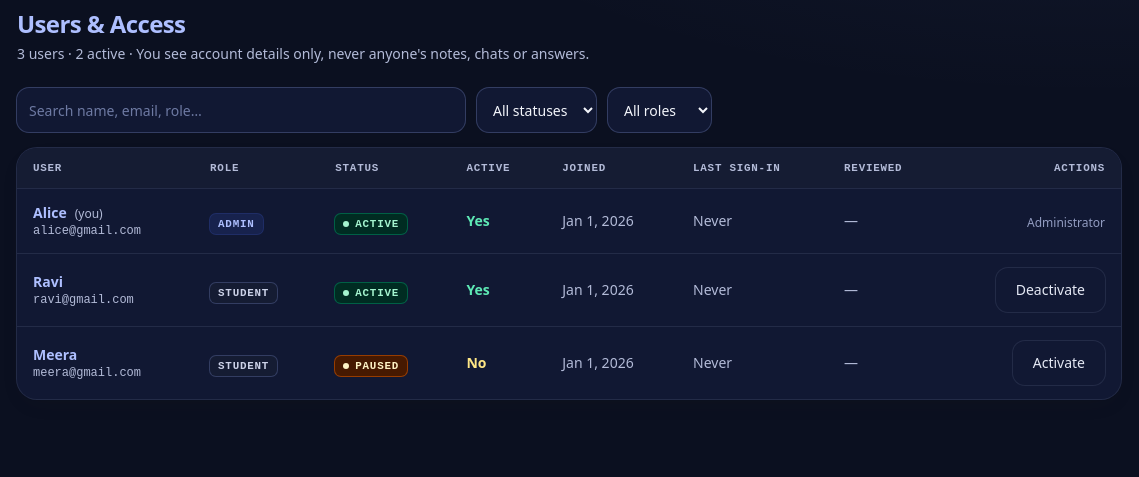
Scenario: Users & Access screen › cancel leaves access untouched; activating a paused account is one click
Check: the table named "Accounts" is shown, box x1=17 y1=148 x2=1121 y2=399
Click the button with aria-label "Deactivate Ravi": (1050, 290) x1=996 y1=268 x2=1105 y2=312
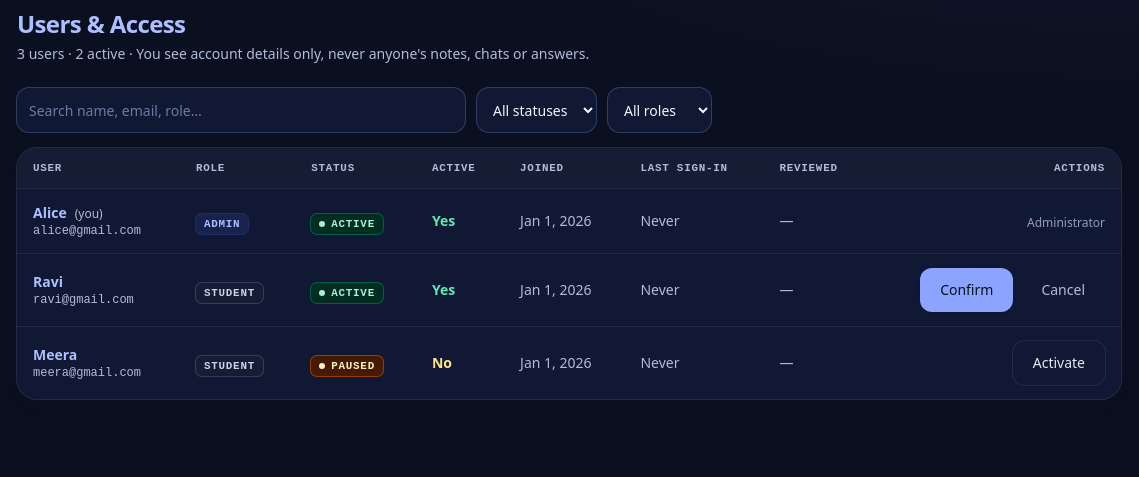
Click the button "Cancel": (1063, 290) x1=1021 y1=268 x2=1105 y2=312
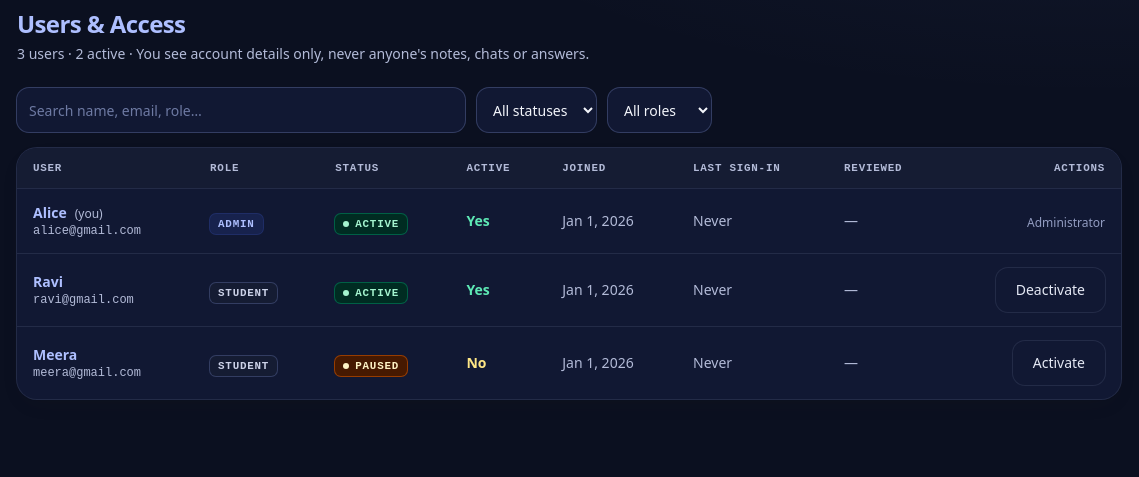
Check: the button with aria-label "Deactivate Ravi" is shown, box x1=996 y1=268 x2=1105 y2=312
Click the button with aria-label "Activate Meera": (1059, 363) x1=1013 y1=341 x2=1105 y2=385
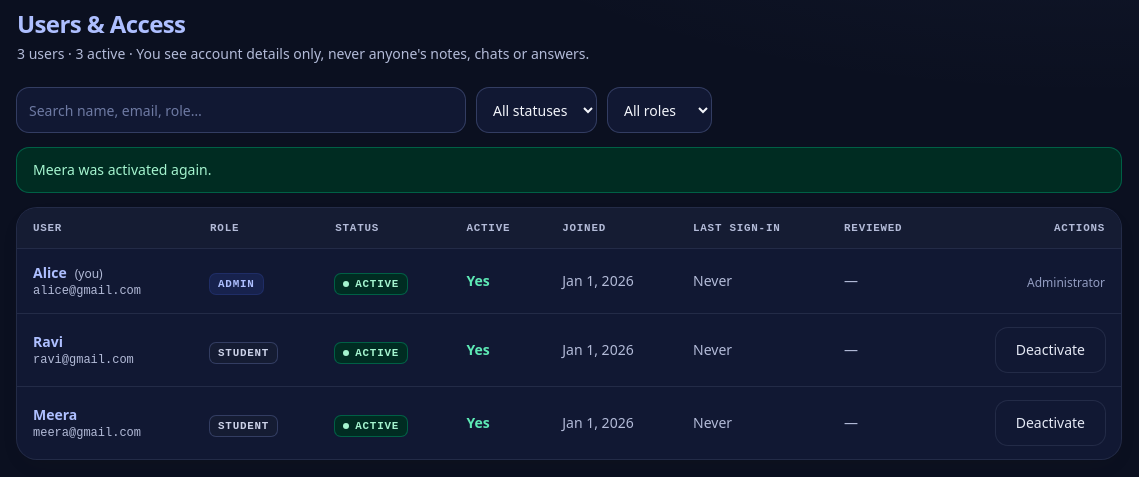
Check: the text "Meera was activated again." is shown, box x1=17 y1=148 x2=1121 y2=192
